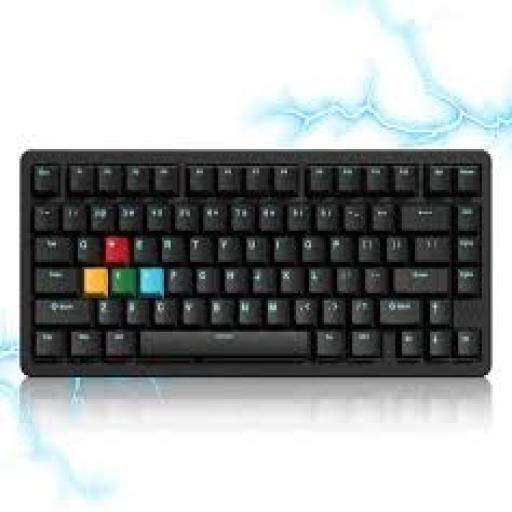KEYBOARD-2: (19, 149, 490, 375)
